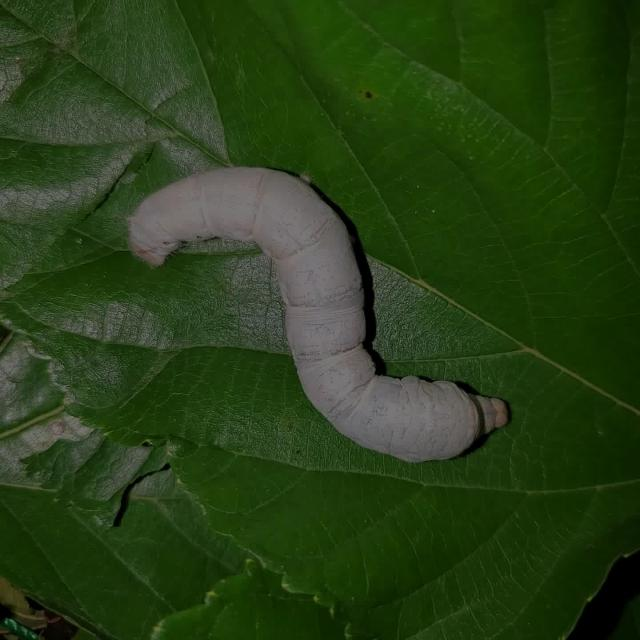Healthy: (122, 151, 521, 466)
